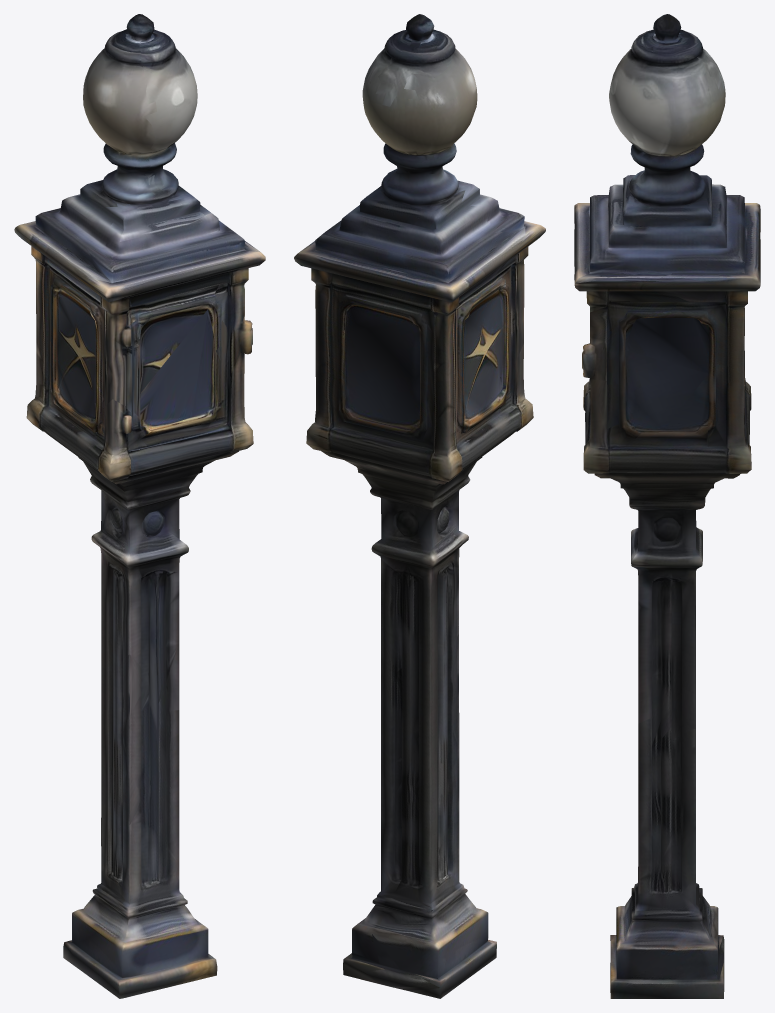
File: int-police-call-box.glb
3 views of the same model, side by side, from view 1: azimuth 30°, elevation 25°; view 2: azimuth 150°, elevation 25°; view 3: azimuth 270°, elevation 25° (orthographic).
Visible parts, largest first — view 1: model; view 2: model; view 3: model.
Boxes of the visible parts, x1=… form: model: x1=14, y1=14, x2=265, y2=998; model: x1=294, y1=14, x2=545, y2=998; model: x1=574, y1=14, x2=760, y2=998.
Bounding box in the file's own units: 0.2808 × 1.6 × 0.2815.
Materials: 1 (1 with a texture image).
